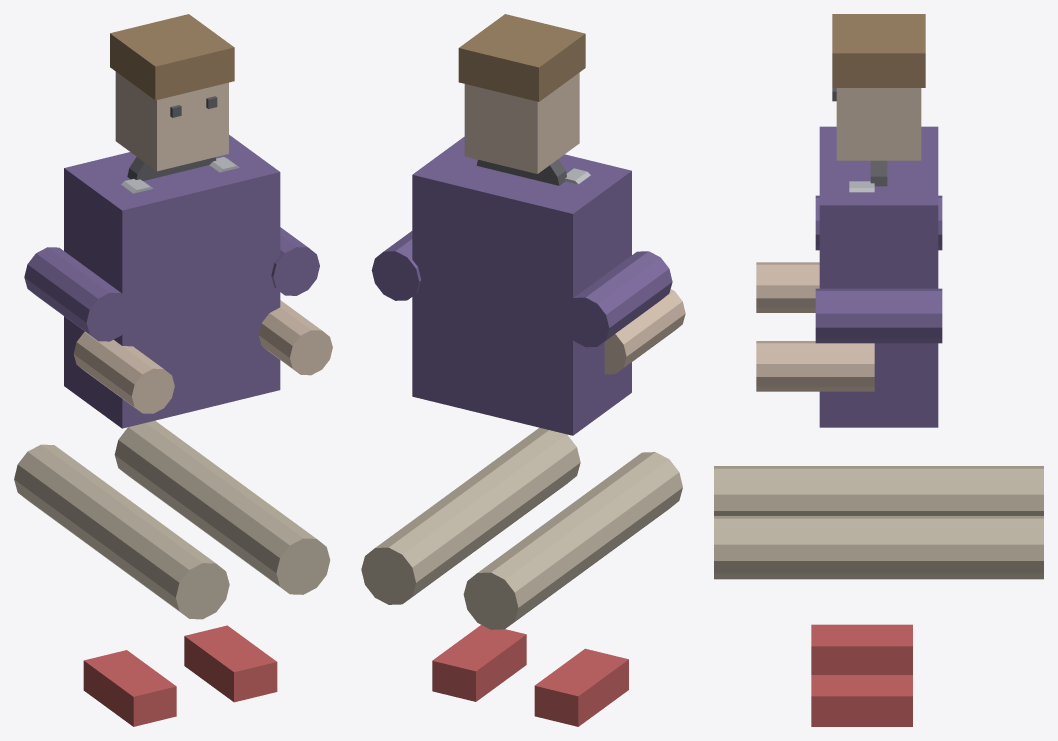
Rendered from character_employee.glb.
The picture shows the model from 3 angles, left to right: view 1: azimuth 30°, elevation 25°; view 2: azimuth 150°, elevation 25°; view 3: azimuth 270°, elevation 25°; orthographic projection.
Visible parts, largest first — view 1: geometry_0; view 2: geometry_0; view 3: geometry_0.
Part boxes in pixels (x1,y1,x2,y2): geometry_0: (14, 14, 332, 726); geometry_0: (361, 14, 685, 726); geometry_0: (714, 14, 1043, 726).
Bounding box in the file's own units: 0.65 × 1.72 × 0.78.
